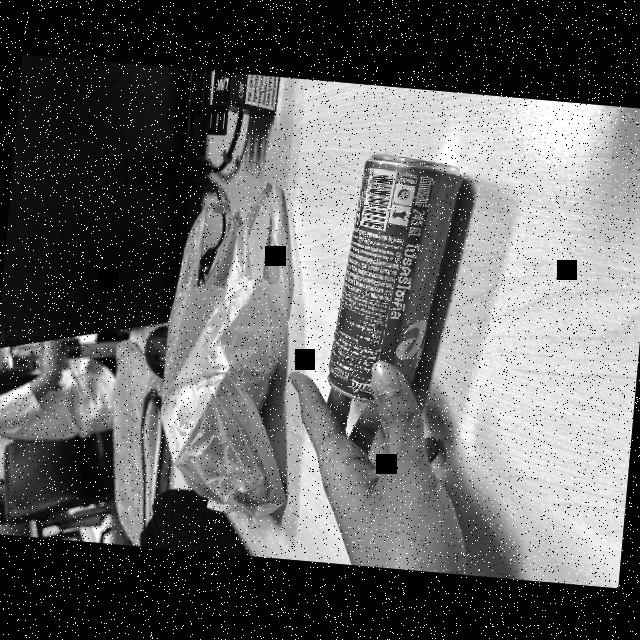can: (314, 131, 474, 424)
